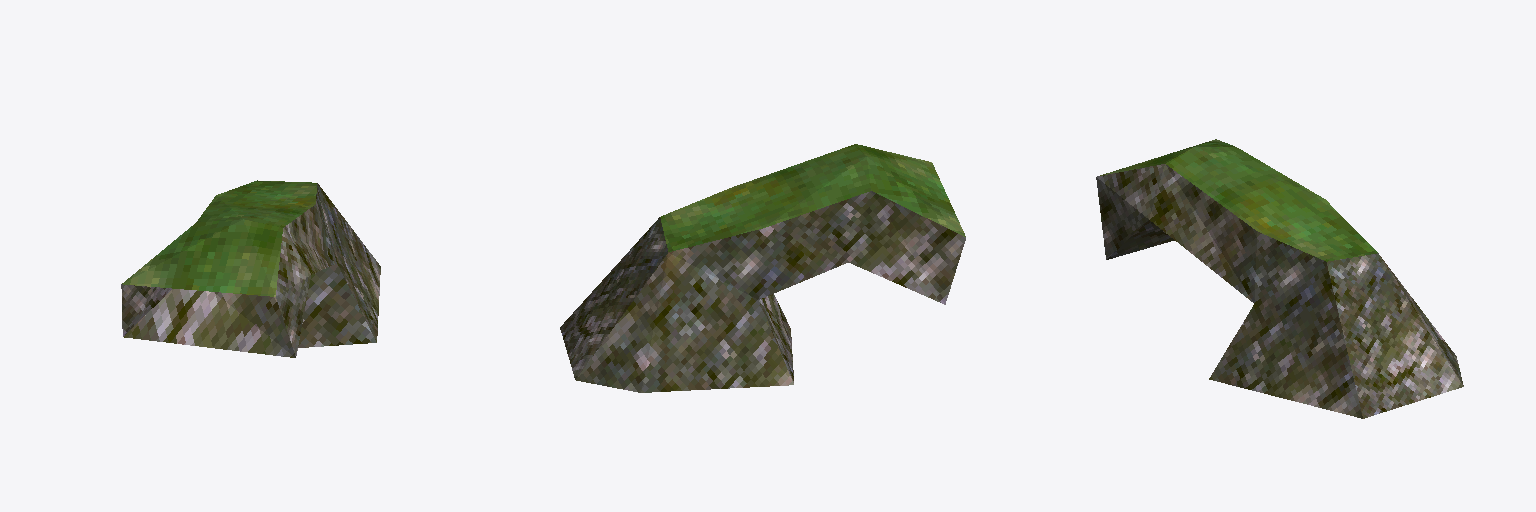
3 views of the same model, side by side, from view 1: azimuth 30°, elevation 25°; view 2: azimuth 150°, elevation 25°; view 3: azimuth 270°, elevation 25° (orthographic).
Visible parts, largest first — view 1: untitled.012_untitled.021; view 2: untitled.012_untitled.021; view 3: untitled.012_untitled.021.
Boxes of the visible parts, <box> form: untitled.012_untitled.021: <box>121,180,380,357</box>; untitled.012_untitled.021: <box>560,144,965,392</box>; untitled.012_untitled.021: <box>1096,139,1463,418</box>.
Size of the model in its own units: 182 by 85.17 by 174.
2 materials, 2 textured.